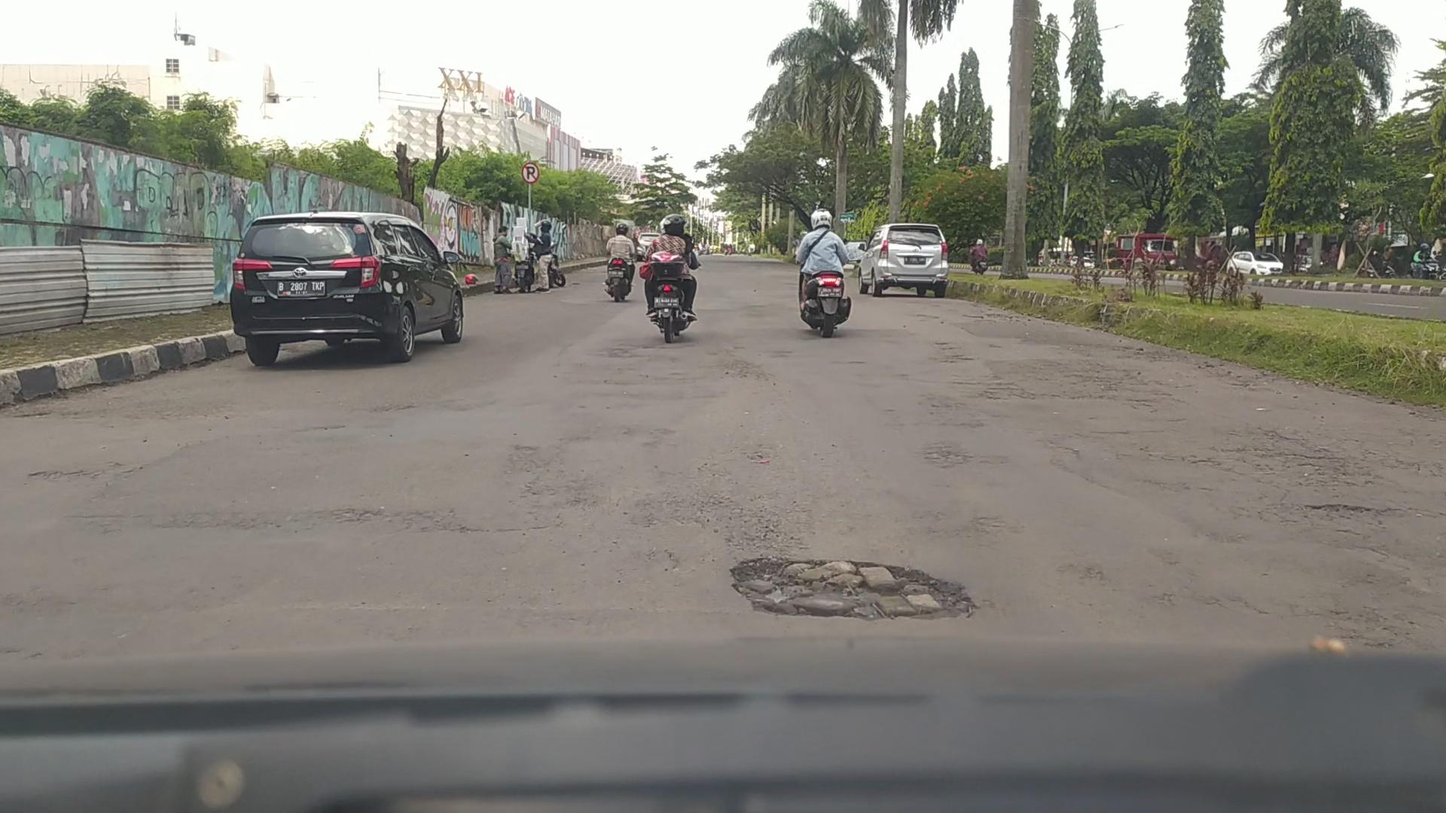pothole: (730, 556, 970, 621)
